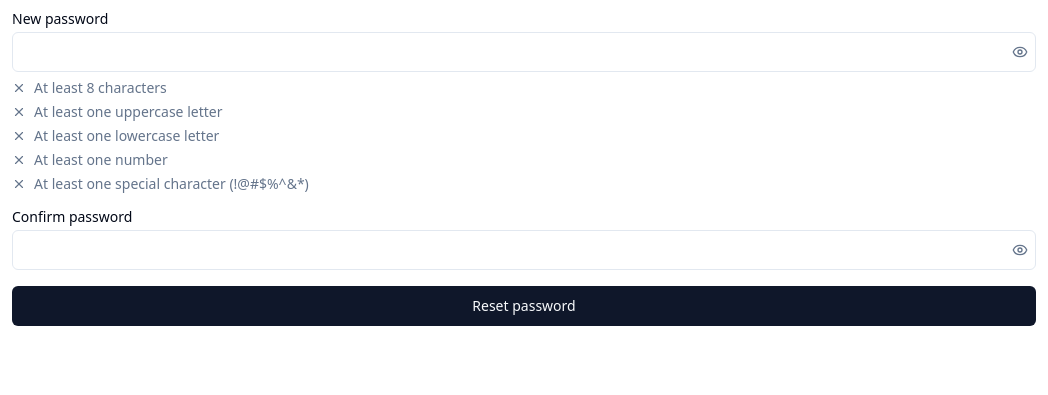
Scenario: ResetPasswordForm › shows a weak-password message
Type "weak" into the password field labelled "New password" at {"x": 524, "y": 52}, box [12,32,1036,72]
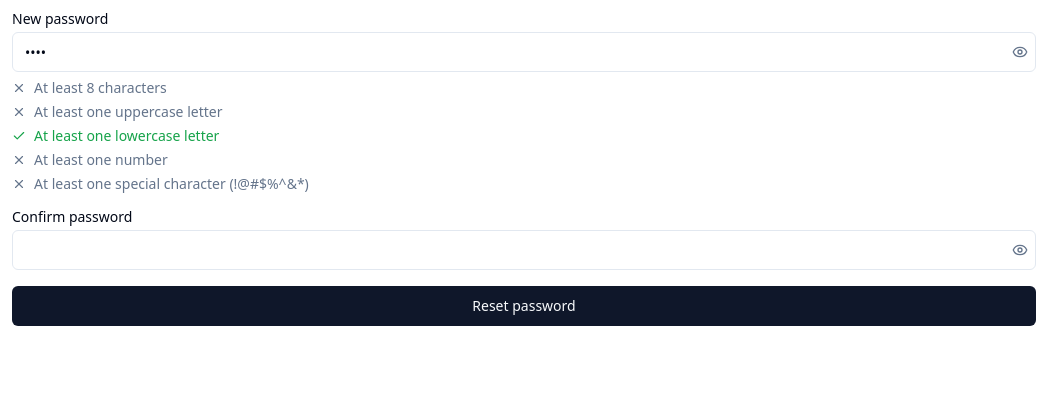
Click the button "Reset password" at {"x": 524, "y": 306}, box [12,286,1036,326]
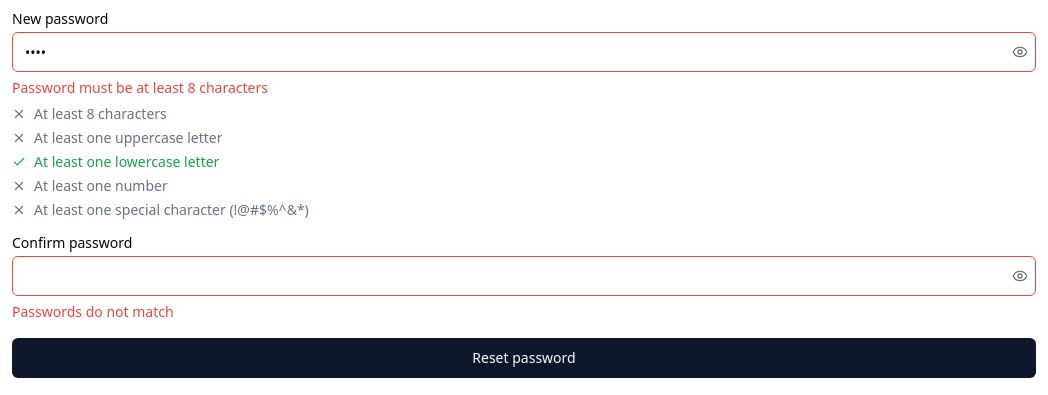
Check: the text "Password must be at least 8 characters" is shown, box [12,78,268,97]
